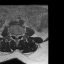CCS_stenosis: (16, 32, 17, 40)
LFS_normal: (19, 32, 21, 37)
LLS_normal: (17, 32, 19, 38)
RFS_normal: (12, 32, 14, 37)
RLS_normal: (14, 32, 16, 39)
